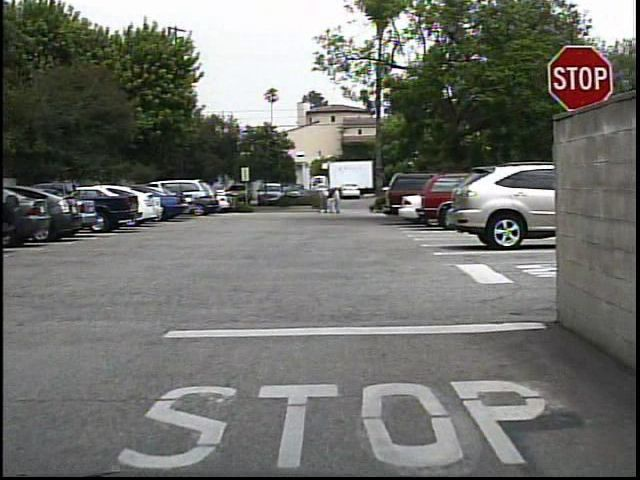person: (332, 187, 350, 217), (317, 186, 332, 215), (335, 187, 336, 217)
